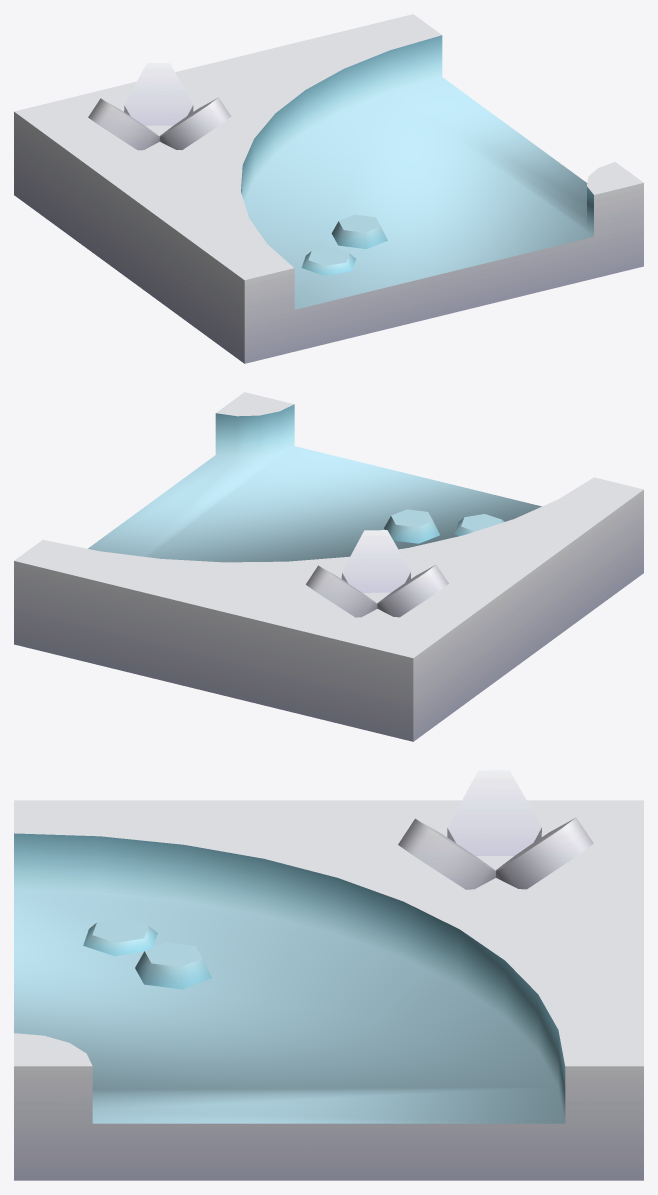
Rendered from kenney-tower-defense-snow-tile-corner-round.glb.
The picture shows the model from 3 angles, top to bottom: view 1: azimuth 30°, elevation 25°; view 2: azimuth 150°, elevation 25°; view 3: azimuth 270°, elevation 25°; orthographic projection. The views are drawn at different scales.
Visible parts, largest first — view 1: snow-tile-corner-round; view 2: snow-tile-corner-round; view 3: snow-tile-corner-round.
Boxes of the visible parts, box(x1,y1,x2,y2) form: snow-tile-corner-round: box(14, 14, 643, 363); snow-tile-corner-round: box(14, 392, 643, 741); snow-tile-corner-round: box(14, 770, 643, 1180).
Bounding box in the file's own units: 1 × 0.2961 × 1.
Materials: 1 (1 with a texture image).
